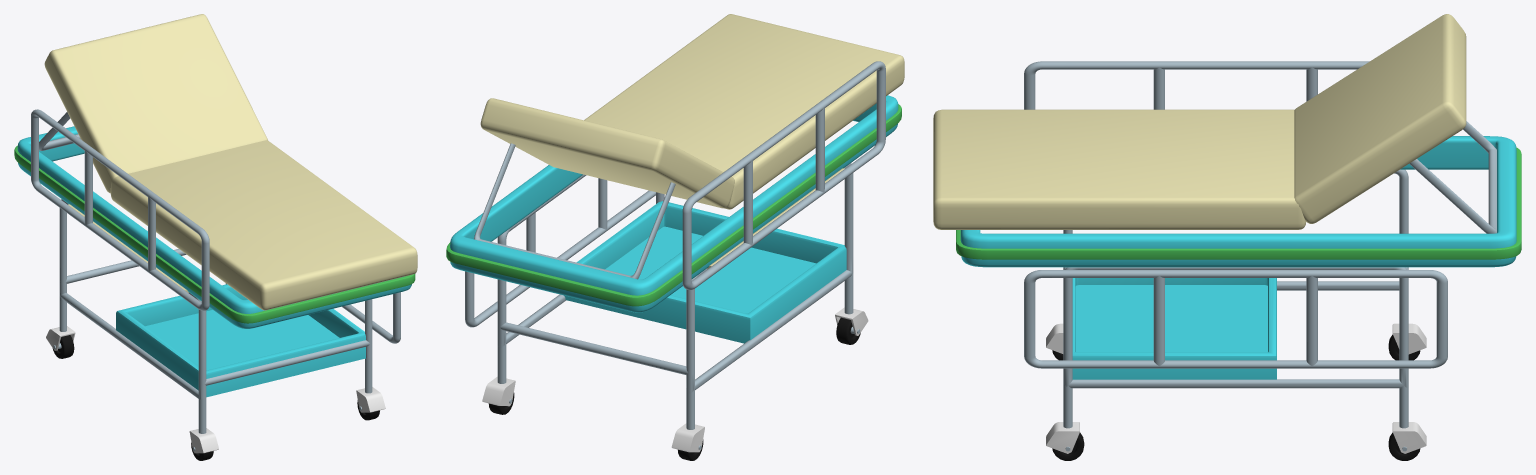
File: Medical_Gurney_V1.fbx
3 renders of one model, left to right at view 1: azimuth 30°, elevation 25°; view 2: azimuth 150°, elevation 25°; view 3: azimuth 270°, elevation 25°, orthographic. The views are drawn at different scales.
Parts seen in each view (by area): view 1: Cylinder007; view 2: Cylinder007; view 3: Cylinder007.
Part boxes in pixels (bbox=[...]): Cylinder007: bbox=[14, 14, 417, 460]; Cylinder007: bbox=[446, 14, 904, 460]; Cylinder007: bbox=[933, 14, 1521, 460].
Bounding box in the file's own units: 149 × 209 × 317.
